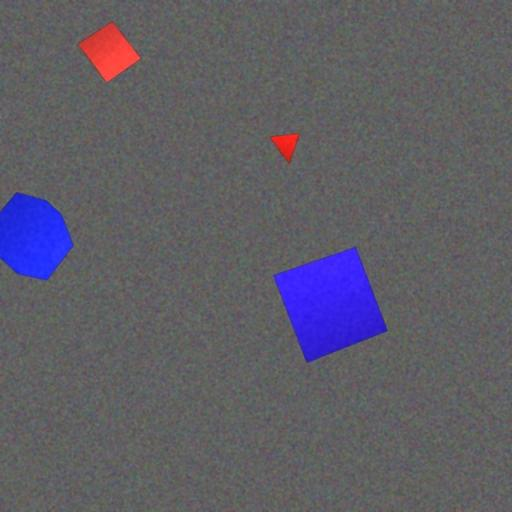BLUE_SQUARE: (272, 246, 389, 364)
RED_SQUARE: (78, 20, 142, 83)
